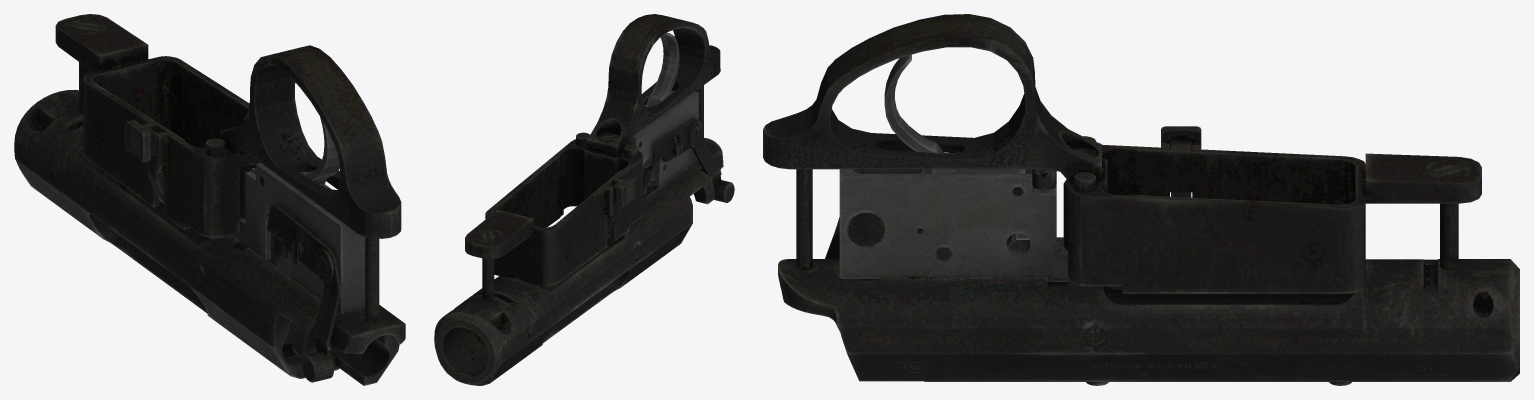
3 renders of one model, left to right at view 1: azimuth 30°, elevation 25°; view 2: azimuth 150°, elevation 25°; view 3: azimuth 270°, elevation 25°, orthographic. The views are drawn at different scales.
Visible parts, largest first — view 1: TW_5de652c31b7e3716273428be_PZ_Import; view 2: TW_5de652c31b7e3716273428be_PZ_Import; view 3: TW_5de652c31b7e3716273428be_PZ_Import.
Boxes of the visible parts, x1,y1,x2,y2 form: TW_5de652c31b7e3716273428be_PZ_Import: (14, 14, 405, 385); TW_5de652c31b7e3716273428be_PZ_Import: (434, 14, 734, 385); TW_5de652c31b7e3716273428be_PZ_Import: (763, 14, 1519, 385).
Size of the model in its own units: 0.0222 by 0.1079 by 0.056.
Materials: 1 (1 with a texture image).
